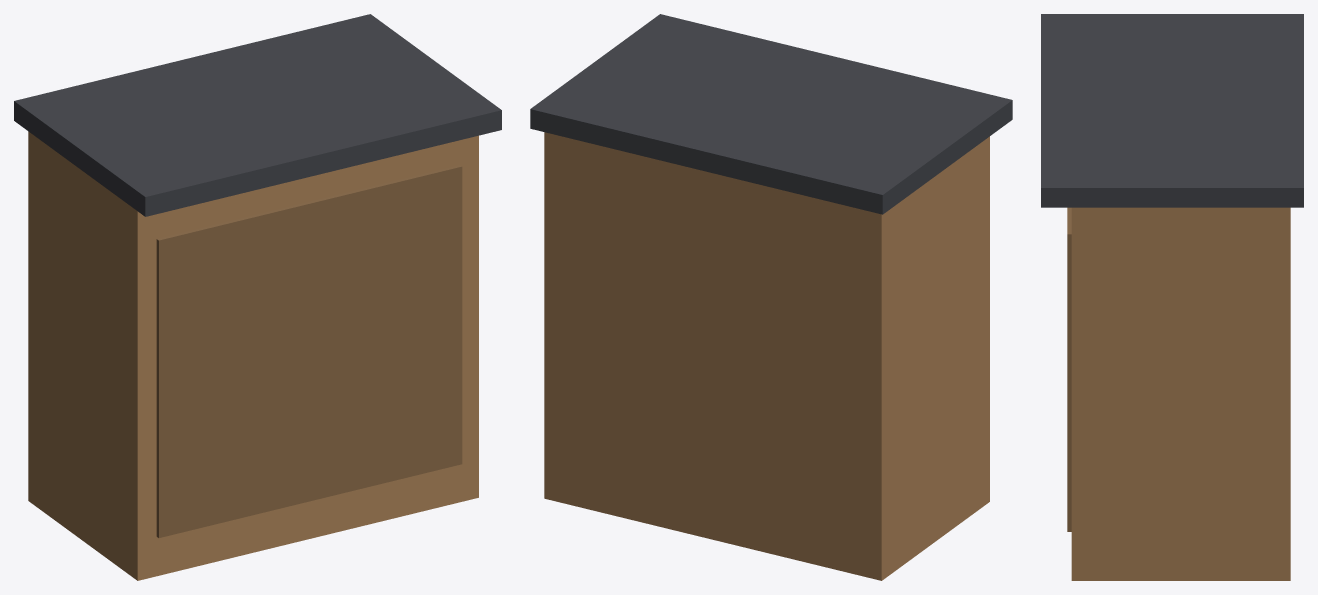
File: mod-balcao.gltf
3 views of the same model, side by side, from view 1: azimuth 30°, elevation 25°; view 2: azimuth 150°, elevation 25°; view 3: azimuth 270°, elevation 25° (orthographic).
Visible parts, largest first — view 1: mod-balcao; view 2: mod-balcao; view 3: mod-balcao.
Boxes of the visible parts, <box> form: mod-balcao: <box>14,14,501,580</box>; mod-balcao: <box>530,14,1012,580</box>; mod-balcao: <box>1041,14,1303,580</box>.
Size of the model in its own units: 0.94 by 1 by 0.6.
